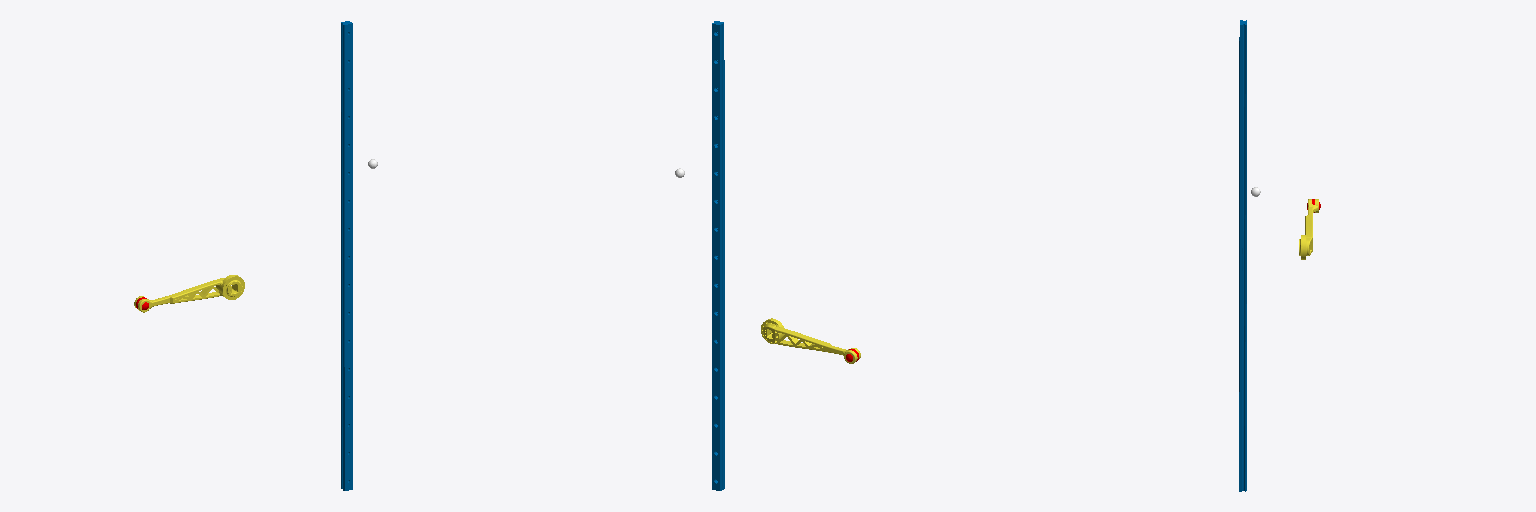
The robot description file, URDF, robot "softlegisaac":
<?xml version="1.0"?>
<robot name="softlegisaac">
<link name="world"/>
  <joint name="fixed" type="fixed">
      <origin xyz="0. 0. 0.02" rpy="1.57 0. 0."/>
      <parent link="world"/>
      <child link="softleg_1_cart_link"/>
  </joint>
  <joint name="softleg_1_cart_joint" type="fixed">
      <origin xyz="0. 0.60 0. " rpy="0.0 0.0 0.0 "/>
      <!-- <origin xyz="0. 0.2102 0. " rpy="0.0 0.0 3.14 "/> -->
      <parent link="softleg_1_cart_link"/>
      <child link="softleg_1_base_link"/>
      <axis xyz="0 1 0"/>
      <joint_properties damping=".0" friction="0.4"/>
      <limit lower="0.0" upper="2.0" effort="0." velocity="300."/>
  </joint>
  <joint name="softleg_1_ball_pseudo_joint" type="fixed">
    <origin xyz="0.072 0.0507 -0.0164 " rpy="0. 0. 0. "/>
    <parent link="softleg_1_base_link"/>
    <child link="softleg_1_ball_pseudo_link"/>
    <axis xyz="1 0 0"/>
    <limit lower="-3.1415927" upper="3.1415927" effort="11." velocity="100."/>
    </joint>

  
  <joint name="softleg_1_knee_joint" type="revolute">
    <origin xyz="0.0 -0.19 -0.0498 " rpy="0. 0. 0. "/>
    <parent link="softleg_1_thigh_link"/>
    <child link="softleg_1_calf_link"/>
    <axis xyz="0 0 -1"/>
    <limit lower="-3.1415927" upper="3.1415927" effort="150." velocity="300."/>
  </joint> 

  <joint name="softleg_1_hip_joint" type="revolute">
    <origin xyz="0.0 -0.19 -0.0498 " rpy="0. 0.0 -1.57 "/>
    <parent link="softleg_1_base_link"/>
    <child link="softleg_1_thigh_link"/>
    <axis xyz="0 0 -1"/>
    <limit lower="-3.1415927" upper="3.1415927" effort="150." velocity="300."/>
  </joint>

  <joint name="softleg_1_ankle_joint" type="fixed">
    <origin xyz="0.0 -0.19 -0.0294 " rpy="0. 0. 0. "/>
    <parent link="softleg_1_calf_link"/>
    <child link="softleg_1_foot_link"/>
    <axis xyz="1 0 0"/>
    <limit lower="-3.1415927" upper="3.1415927" effort="150." velocity="100."/>
    </joint>

 <link name="softleg_1_base_link">
    <inertial>
      <origin xyz="0. 0. 0." rpy="0. 0. 0.0"/>
      <mass value="1.2642768"/> 
      <inertia ixx="1.0129150e-02" ixy="-1.2788286e-05" ixz="-1.8432118e-05" iyy="1.9134757e-03" iyz="-1.4317404e-03" izz="9.9843305e-03"/>
    </inertial>
    <visual>
      <origin xyz="0. 0. 0." rpy="0. 0. 0."/>
      <geometry>
      <mesh filename="package://softleg_description/meshes/hip.stl" scale="0.001 0.001 0.001"/>
      </geometry>
    </visual>
    <collision>
    <origin xyz="0.0 0.0 0.0 " rpy="0. 0. 0.0"/>
      <geometry>
        <mesh filename="package://softleg_description/meshes/hip.stl" scale="0.001 0.001 0.001"/>
      </geometry>
   
    </collision>
  </link> 

  <link name="softleg_1_ball_pseudo_link">
    <inertial>
      <origin xyz="0. 0. 0." rpy="0. 0. 0."/>
      <mass value="0.001"/>
      <inertia ixx="0.0001" ixy="0.0" ixz="0.0" iyy="0.0001" iyz="0" izz="0.0001"/>
    </inertial>
    <visual>
      <origin xyz="0. 0. 0. " rpy="0. 0. 0."/>
      <geometry>
        <sphere radius="0.0095" />
      </geometry>
      <material name="gino">
        <color rgba="1 1 1 1"/>
      </material>
    </visual>
    <collision>
    <origin xyz="0. 0. 0. " rpy="0. 0. 0."/>
      <geometry>
        <sphere radius="0.0095"/>
      </geometry>
    </collision>
  </link>

  <link name="softleg_1_calf_link">
    <inertial>
      <origin xyz="0. 0. 0." rpy="0. 0. 0."/>
      <mass value="9.1088559e-02"/>
      <inertia ixx="7.3660432e-04" ixy="7.8245712e-09" ixz="1.9809329e-09" iyy="4.1085061e-05" iyz="-1.2377630e-04" izz="7.1489058e-04"/>
    </inertial>
    <visual>
      <origin xyz="0. 0. 0." rpy="0. 0. 0. "/>
      <geometry>
        <mesh filename="package://softleg_description/meshes/lower_leg_update.stl" scale="0.001 0.001 0.001"/>
      </geometry>
    </visual>
     <collision>
    <origin xyz="0.0 0. 0." rpy="0. 0 0. "/>
      <geometry>
        <sphere radius="0.015"/>
      </geometry>
  
    </collision> 

  </link>

  <link name="softleg_1_cart_link">
    <inertial>
      <origin xyz="0. 0.0 0." rpy="0. 0. 0."/>
      <mass value="40000000000000"/>
      <inertia ixx="7.8849610e-03" ixy="-1.2902140e-05" ixz="-2.5530569e-06" iyy="9.8307563e-04" iyz="-1.6230231e-03" izz="7.1995637e-03"/>
    </inertial>
    <visual>
      <origin xyz="0. 0. 0." rpy="0. 0. 0.0"/>
      <geometry>
        <mesh filename="package://softleg_description/meshes/sxr28_1000_r.stl" scale="0.001 0.001 0.001"/>
      </geometry>
    <collision>
        <origin xyz="0. 0. 0." rpy="0. 0. 0.0"/>
      <geometry>
        <mesh filename="package://softleg_description/meshes/sxr28_1000_r.stl" scale="0.001 0.001 0.001"/>
      </geometry>
    </collision>
    </visual>

  </link>
  <link name="softleg_1_thigh_link">
    <inertial>
      <origin xyz="0. 0. 0." rpy="0. 0. 0."/>
      <mass value="5.9301106e-01"/>
      <inertia ixx="7.8849610e-03" ixy="-1.2902140e-05" ixz="-2.5530569e-06" iyy="9.8307563e-04" iyz="-1.6230231e-03" izz="7.1995637e-03"/>
    </inertial>
    <visual>
      <origin xyz="0. 0. 0." rpy="0. 0. 0.0"/>
      <geometry>
        <mesh filename="package://softleg_description/meshes/knee.stl" scale="0.001 0.001 0.001"/>
      </geometry>
    </visual>
    <collision>
    <origin xyz="0. 0. 0." rpy="0. 0. 0.0"/>
      <geometry>
        <mesh filename="package://softleg_description/meshes/knee.stl" scale="0.001 0.001 0.001"/>
      </geometry>
    </collision>
  </link> 

  <link name="softleg_1_foot_link">
    <inertial>
      <origin xyz="0. 0. 0." rpy="0. 0. 0."/>
      <mass value="0.001"/>
      <inertia ixx="0.0001" ixy="0.0" ixz="0.0" iyy="0.0001" iyz="0" izz="0.0001"/>
    </inertial>
    <visual>
      <origin xyz="0. 0. 0. " rpy="0. 0. 0."/>
      <geometry>
        <sphere radius="0.014" />
      </geometry>
      <material name="gino">
        <color rgba="1 0 0 0"/>
      </material>
    </visual>
    <collision>
    <origin xyz="0. 0. 0. " rpy="0. 0. 0."/>
      <geometry>
        <sphere radius="0.014"/>
      </geometry>
    </collision>
  </link>


  <gazebo>
  <!-- Odometry Publisher -->
                <plugin
            filename="ignition-gazebo-odometry-publisher-system"
            name="ignition::gazebo::systems::OdometryPublisher">
            <dimensions>3</dimensions>
            <odom_publish_frequency>300</odom_publish_frequency>
            <odom_frame>softlegisaac/world</odom_frame>
            <robot_base_frame>softleg_1_ball_pseudo_link</robot_base_frame>
            <odom_topic>height_measure</odom_topic>
            <tf_topic>height_measure</tf_topic>
        </plugin>
    <plugin filename="ign_ros2_control-system" name="ign_ros2_control::IgnitionROS2ControlPlugin">
        <parameters>[local-path]/docker_simulation_ws/install/softleg_description/share/softleg_description/config/softleg_gazebo_sim_jnt_PD.yaml</parameters>    <!--  PD controller configuration -->
        <!--<parameters>[local-path]/docker_simulation_ws/install/softleg_description/share/softleg_description/config/softleg_gazebo_FeedForwardPos.yaml</parameters> --> 
    </plugin>
  </gazebo>
  <ros2_control name="IgnitionSystem" type="system">
      <hardware>
          <plugin>ign_ros2_control/IgnitionSystem</plugin>
      </hardware>
      <joint name="softleg_1_cart_joint">
                <!-- <command_interface name="effort" /> -->
                <state_interface name="position">
                    <param name="initial_value">-0.0</param>
                </state_interface>
                <state_interface name="velocity">
                    <param name="initial_value">0.0</param>
                </state_interface>
                <state_interface name="effort" />
      </joint>     
      <joint name="softleg_1_hip_joint">
              <command_interface name="effort" />
              <state_interface name="position">
                  <param name="initial_value">-0.0</param>
              </state_interface>
              <state_interface name="velocity">
                  <param name="initial_value">0.0</param>
              </state_interface>
              <state_interface name="effort" />
      </joint>
      <joint name="softleg_1_knee_joint">
                <command_interface name="effort" />
                <state_interface name="position">
                    <param name="initial_value">-0.0</param>
                </state_interface>
                <state_interface name="velocity">
                    <param name="initial_value">0.0</param>
                </state_interface>
                <state_interface name="effort" />
            </joint>
        </ros2_control>

        <gazebo reference="softleg_1_cart_link">
            <gravity>true</gravity>
            <material>Gazebo/White</material>
            <kp>100000.0</kp>
            <kd>1000.0</kd>
            <mu1>0.0</mu1>
            <mu2>0.0</mu2>
            <slip1>0.1</slip1>
            <slip2>0.1</slip2>
            <collision>
              <surface>
                <contact>
                  <ode>
                  <min_depth>0.0</min_depth>
                  </ode>
                </contact>
              </surface>
            </collision>
          </gazebo>
          <gazebo reference="softleg_1_base_link">
          <gravity>true</gravity>
          <material>Gazebo/White</material>
          <!-- <kp>1e15</kp>
          <kd>1e15</kd>
          <mu>5.0</mu>
          <mu2>0.0</mu2>
          <slip1>0.0</slip1>
          <slip2>0.0</slip2>
          <collision>
            <surface>
              <contact>
                <ode>
                  <min_depth>0.0</min_depth>
                </ode>
              </contact>
            </surface>
          </collision> -->
        </gazebo>
        <gazebo reference="softleg_1_thigh_link">
          <gravity>true</gravity>
          <material>Gazebo/White</material>
          <!-- <kp>1e6</kp>
          <kd>1e2</kd>
          <mu1>1</mu1>
          <mu2>1</mu2>
          <slip1>0</slip1>
          <slip2>0</slip2>
          <collision>
            <surface>
              <contact>
                <ode>
                  <min_depth>0.01</min_depth>
                </ode>
              </contact>
            </surface>
          </collision> -->
        </gazebo>
        <gazebo reference="softleg_1_calf_link">
          <gravity>true</gravity>
          <material>Gazebo/White</material>
          <sensor name='sensor_contact' type='contact'>
              <contact>
                  <collision>collision</collision>
              </contact>
          </sensor>
        </gazebo> 



</robot>

--- Facts derived from the render (not from the file) ---
The picture shows the robot from 3 angles, left to right: view 1: azimuth 30°, elevation 25°; view 2: azimuth 150°, elevation 25°; view 3: azimuth 270°, elevation 25°; orthographic projection.
Model softlegisaac with 7 links and 6 joints (2 revolute, 4 fixed), rooted at world, posed all joints at 0.
Visible links, largest first — view 1: softleg_1_cart_link, softleg_1_calf_link; view 2: softleg_1_cart_link, softleg_1_calf_link; view 3: softleg_1_cart_link, softleg_1_calf_link.
Link boxes in pixels (left/top/right/bottom): softleg_1_cart_link: left=341, top=21, right=352, bottom=490; softleg_1_calf_link: left=134, top=275, right=244, bottom=312; softleg_1_cart_link: left=712, top=21, right=724, bottom=490; softleg_1_calf_link: left=761, top=318, right=860, bottom=363; softleg_1_cart_link: left=1239, top=20, right=1246, bottom=491; softleg_1_calf_link: left=1299, top=199, right=1318, bottom=259.
Size in the robot's own frame: 0.4755 by 0.1588 by 1 metres.
Meshes: 4 distinct files referenced, 2 mesh visuals loaded (2 binary STL); not drawn: 2 (reference not matched to a file when rendering).
